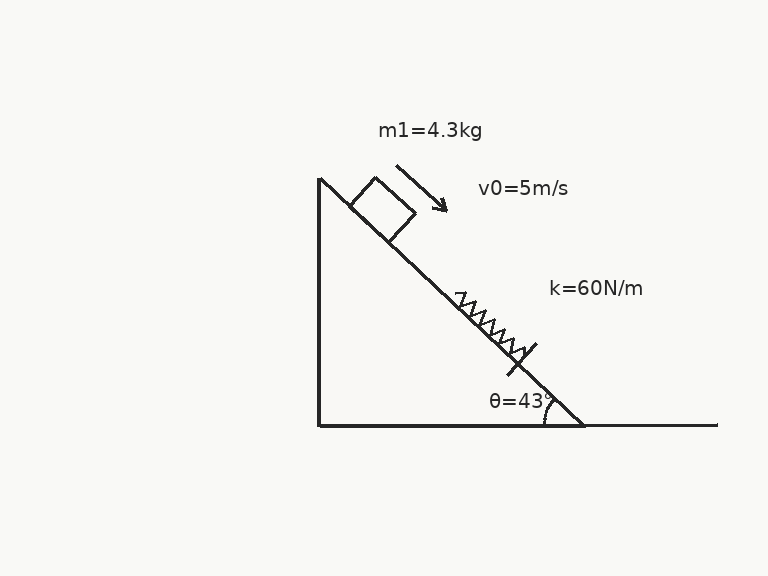block: (347, 175, 416, 244)
ramp: (317, 176, 586, 427)
spring: (453, 290, 526, 359)
